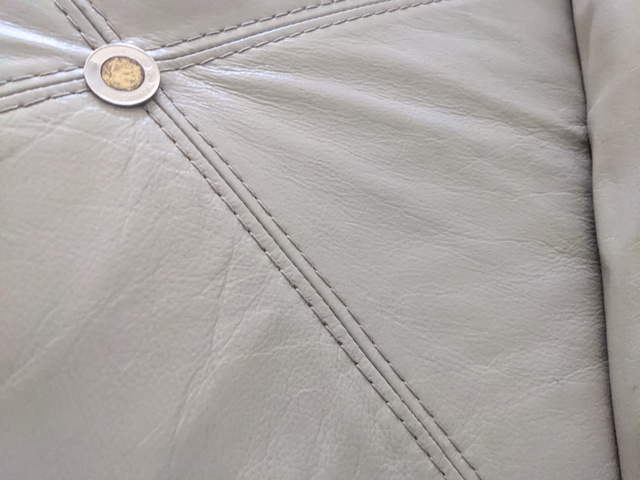twonie: (81, 41, 165, 110)
